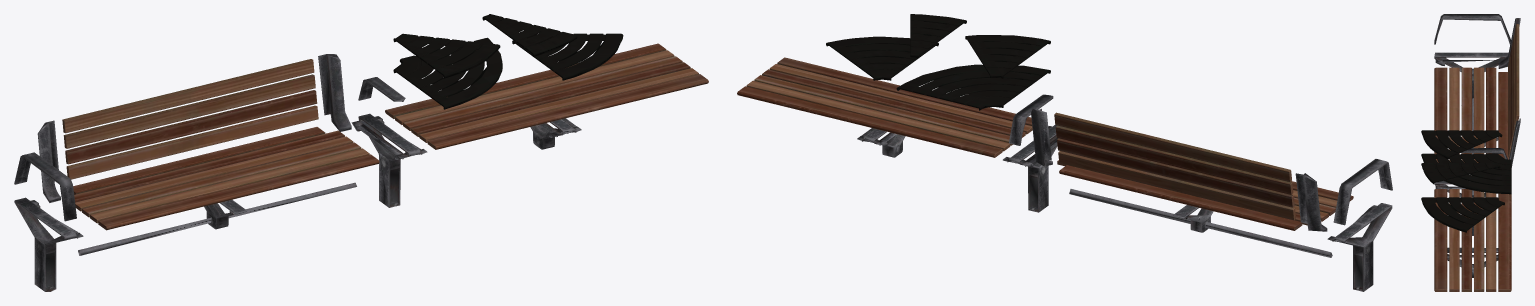
The model's file is modular_street_seating.glb.
The picture shows the model from 3 angles, left to right: view 1: azimuth 30°, elevation 25°; view 2: azimuth 150°, elevation 25°; view 3: azimuth 270°, elevation 25°; orthographic projection. The views are drawn at different scales.
Parts seen in each view (by area): view 1: seat, seat_back, connector_60, legs_double, crossbar; view 2: seat, seat_back, connector_60, crossbar, legs_double; view 3: seat, connector_60, crossbar, legs_double, seat_back.
Boxes of the visible parts, left/top/right/bottom form: seat: left=73, top=43, right=708, bottom=230; seat_back: left=62, top=59, right=318, bottom=179; connector_60: left=393, top=14, right=623, bottom=109; legs_double: left=14, top=113, right=581, bottom=291; crossbar: left=14, top=54, right=405, bottom=255; seat: left=737, top=57, right=1353, bottom=230; seat_back: left=1054, top=112, right=1295, bottom=220; connector_60: left=826, top=14, right=1050, bottom=110; crossbar: left=1009, top=94, right=1392, bottom=257; legs_double: left=857, top=125, right=1392, bottom=291; seat: left=1434, top=67, right=1511, bottom=291; connector_60: left=1421, top=130, right=1511, bottom=232; crossbar: left=1434, top=14, right=1520, bottom=195; legs_double: left=1434, top=52, right=1508, bottom=277; seat_back: left=1508, top=24, right=1519, bottom=157.
Bounding box in the file's own units: 4.34 × 0.9499 × 0.7703.
Materials: 4 (4 with a texture image).
